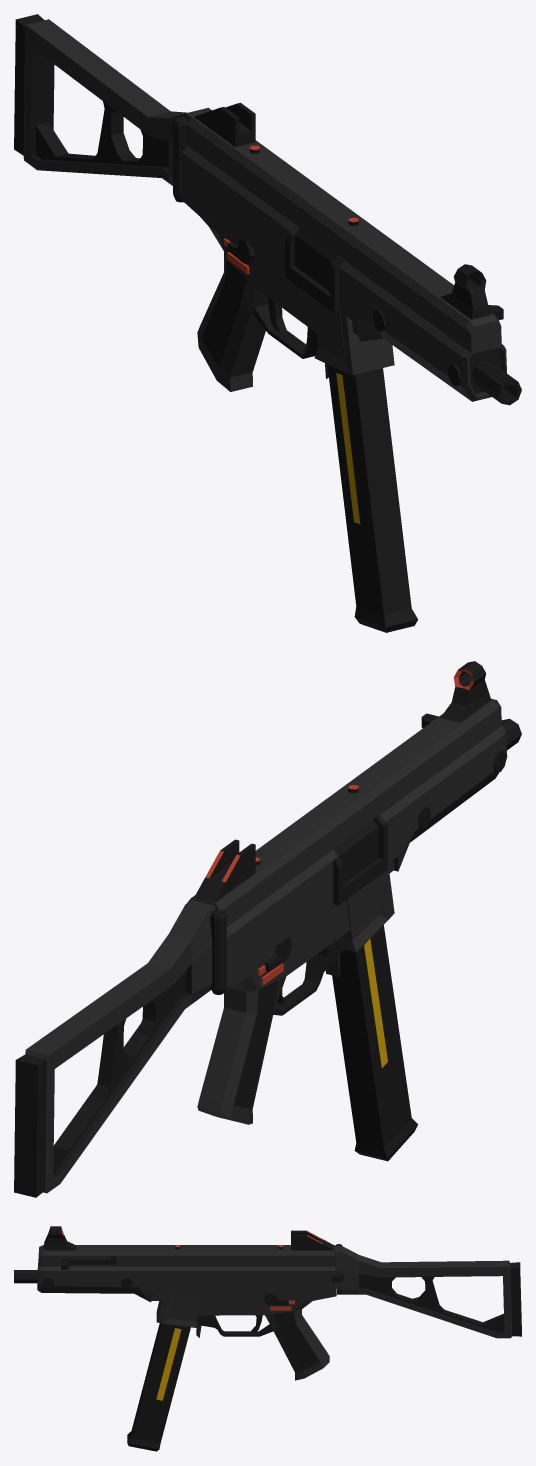
File: UMP_Gun.glb
3 views of the same model, one above another, from view 1: azimuth 30°, elevation 25°; view 2: azimuth 150°, elevation 25°; view 3: azimuth 270°, elevation 25° (orthographic). The views are drawn at different scales.
Visible parts, largest first — view 1: Cube, Cube.001; view 2: Cube, Cube.001; view 3: Cube, Cube.001.
Boxes of the visible parts, box(x1,y1,x2,y2) form: Cube: box(14, 14, 521, 405); Cube.001: box(327, 364, 417, 632); Cube: box(14, 661, 521, 1197); Cube.001: box(332, 925, 417, 1161); Cube: box(14, 1226, 521, 1380); Cube.001: box(127, 1323, 190, 1451).
Size of the model in its own units: 0.0651 by 0.4041 by 0.8402.
Materials: 1 (1 with a texture image).
